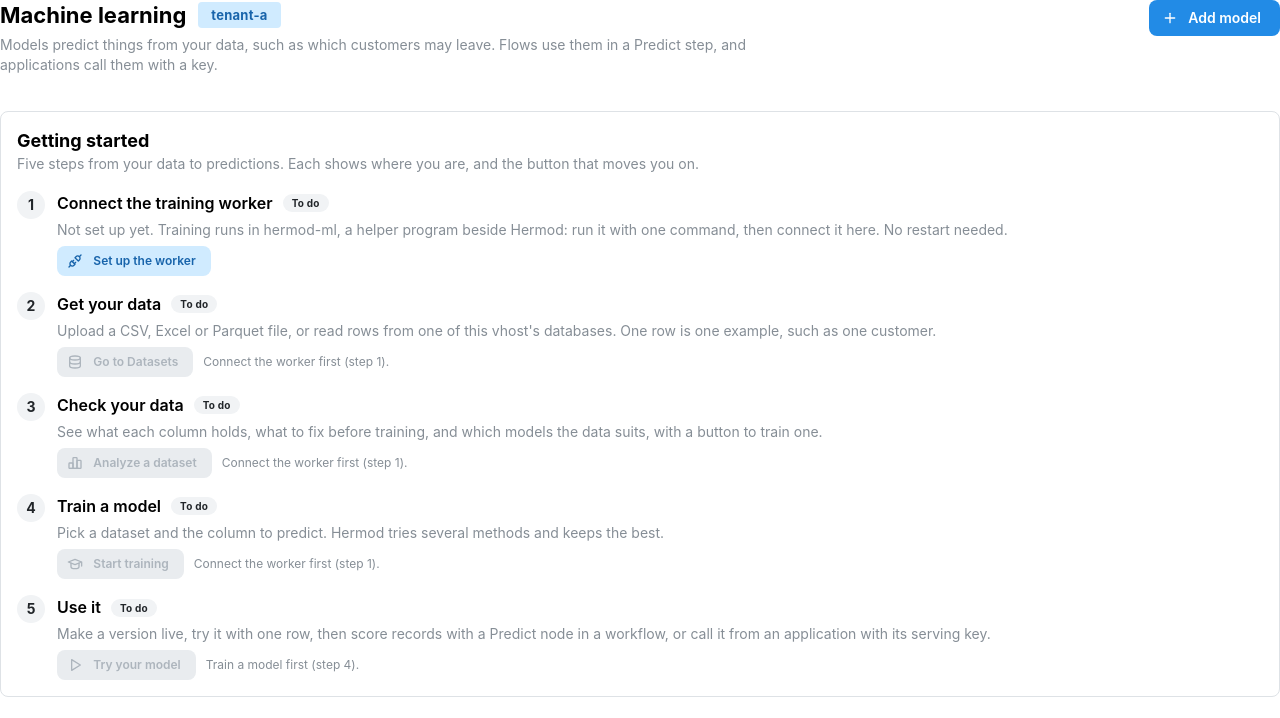
Test: Getting started: the training worker › says the worker is not set up, and keeps the actions visible but disabled with the reason
Expected: the text "Not set up yet" is shown, [57,221,1008,238]
Expected: the text "To do" next to "Connect the training worker" is shown, [292,197,320,209]
Click the button "Add model": (1215, 18) [1149,0,1279,36]
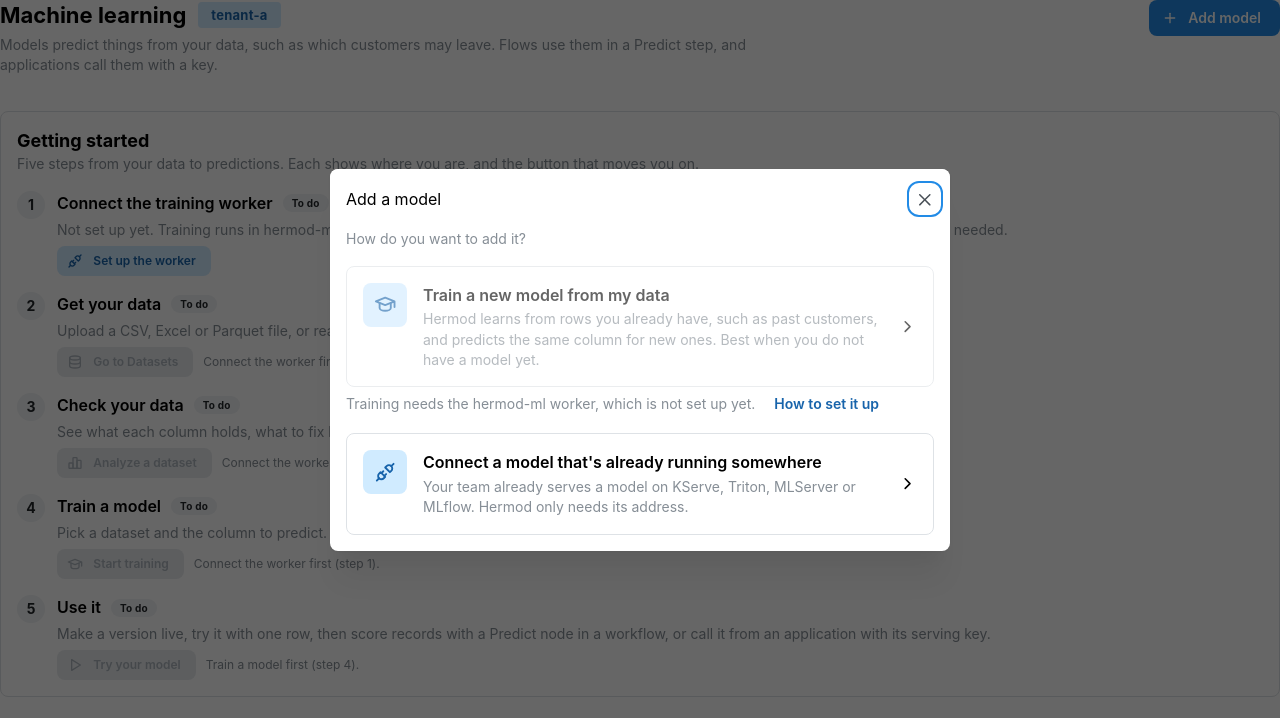
Expected: the button "Train a new model" is disabled, [346,266,934,387]
Press Escape
(page scrolled)
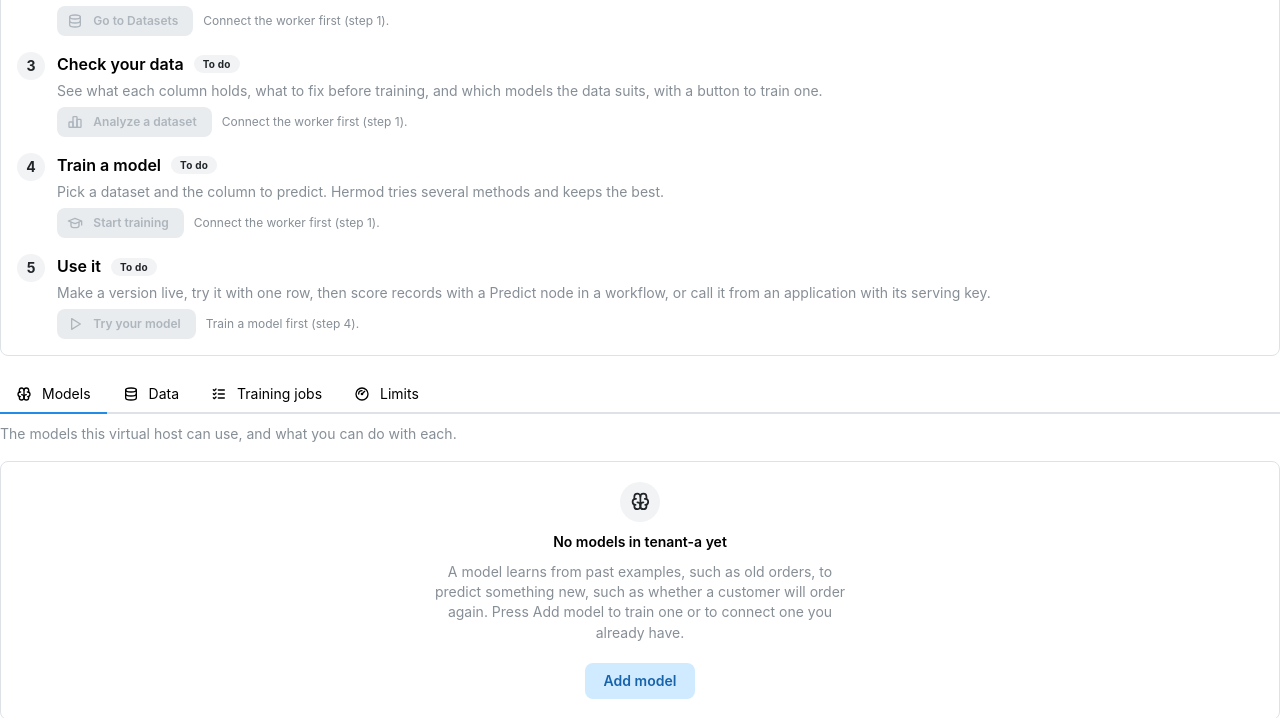
Expected: the dialog is gone
Click the tab "Data": (151, 395) [107,376,195,414]
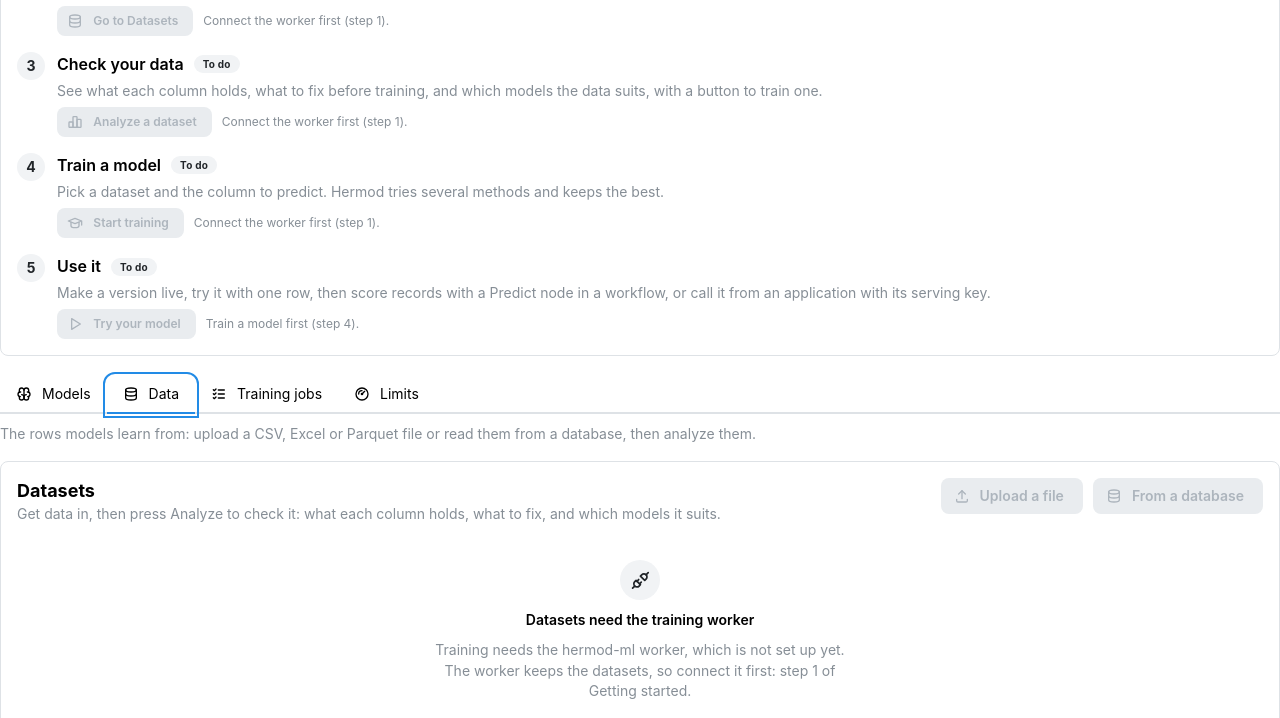
Expected: the heading "Datasets" is shown, [17,480,95,500]
Expected: the button "Upload a file" is disabled, [940,478,1083,514]
Expected: the button "From a database" is disabled, [1093,478,1263,514]
